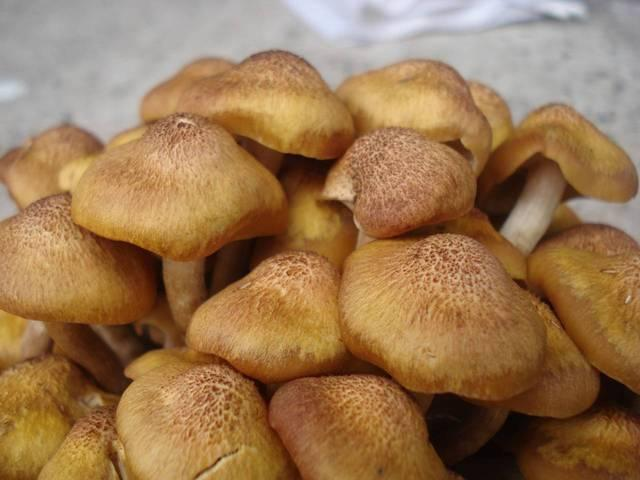edible_mushroom: (0, 48, 638, 479)
